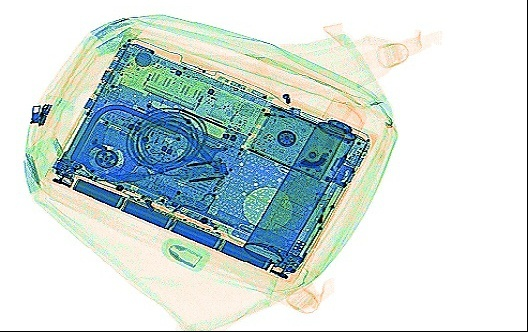lighter: (305, 178, 343, 236), (229, 99, 301, 120)
pressure: (240, 93, 367, 264)
